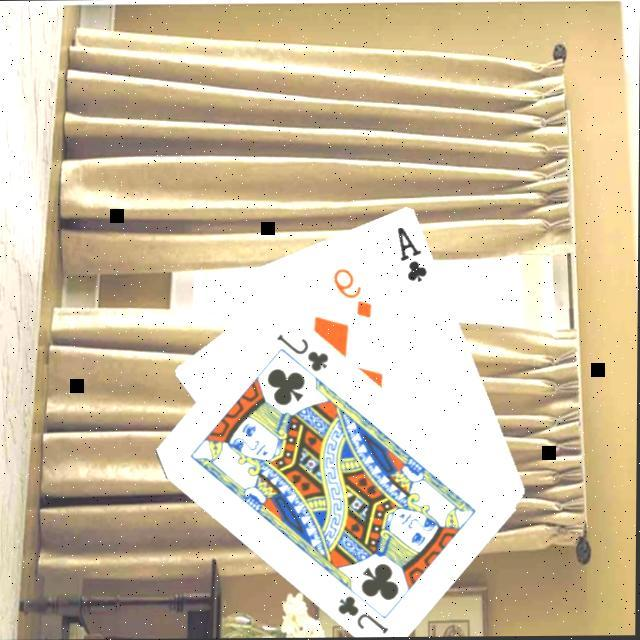9D: (332, 265, 378, 323)
AC: (395, 224, 433, 286)
JC: (275, 331, 334, 377), (336, 593, 394, 638)
